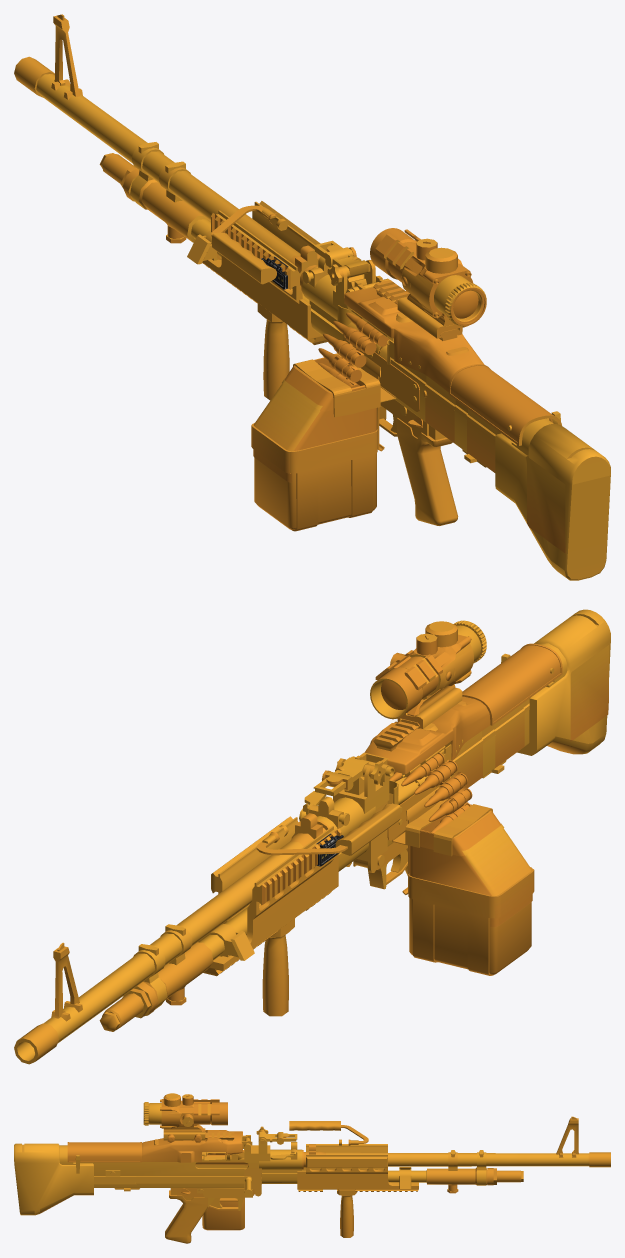
3 renders of one model, top to bottom at view 1: azimuth 30°, elevation 25°; view 2: azimuth 150°, elevation 25°; view 3: azimuth 270°, elevation 25°, orthographic. The views are drawn at different scales.
Parts seen in each view (by area): view 1: LOD_Template.001, Gunlock2, Magazine1.001, Sticker1, Sticker4, Sight, Sticker2, Sticker3; view 2: LOD_Template.001, Gunlock2, Magazine1.001, Sticker1, Sticker4, Sight, Sticker3, Sticker2, Bullet_4, Bullet_5; view 3: LOD_Template.001, Gunlock2, Magazine1.001, Gunlock1.001, Sight.
Part boxes in pixels (left/top/right/bottom): LOD_Template.001: left=14, top=14, right=610, bottom=580; Gunlock2: left=344, top=228, right=561, bottom=445; Magazine1.001: left=252, top=353, right=380, bottom=531; Sticker1: left=251, top=379, right=322, bottom=482; Sticker4: left=527, top=456, right=566, bottom=553; Sight: left=211, top=205, right=288, bottom=284; Sticker2: left=424, top=376, right=455, bottom=443; Sticker3: left=466, top=409, right=497, bottom=472; LOD_Template.001: left=14, top=609, right=610, bottom=1064; Gunlock2: left=355, top=620, right=562, bottom=777; Magazine1.001: left=405, top=798, right=532, bottom=975; Sticker1: left=462, top=823, right=534, bottom=927; Sticker4: left=570, top=645, right=608, bottom=741; Sight: left=256, top=804, right=400, bottom=855; Sticker3: left=494, top=703, right=524, bottom=767; Sticker2: left=453, top=731, right=483, bottom=792; Bullet_4: left=414, top=760, right=459, bottom=796; Bullet_5: left=424, top=772, right=467, bottom=810; LOD_Template.001: left=14, top=1116, right=610, bottom=1243; Gunlock2: left=67, top=1093, right=250, bottom=1173; Magazine1.001: left=202, top=1198, right=244, bottom=1230; Gunlock1.001: left=135, top=1176, right=252, bottom=1197; Sight: left=289, top=1121, right=368, bottom=1145.
Size of the model in its own units: 0.1891 by 0.2626 by 0.9718.
Materials: 6 (6 with a texture image).
